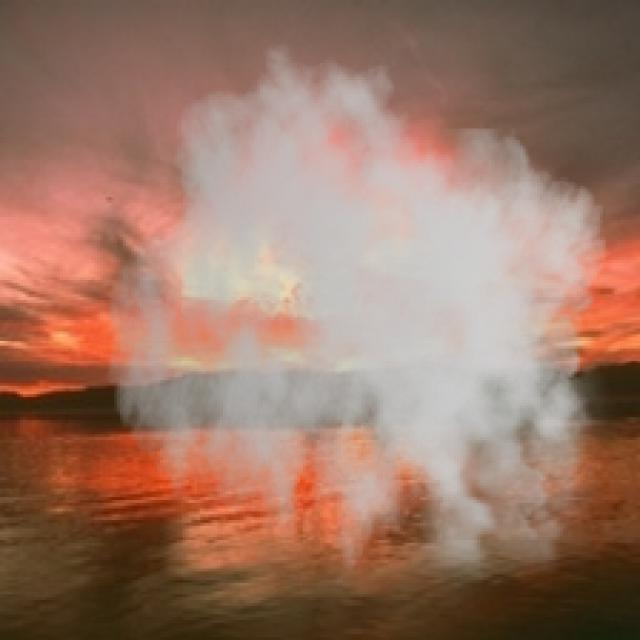smoke: (106, 43, 623, 608)
